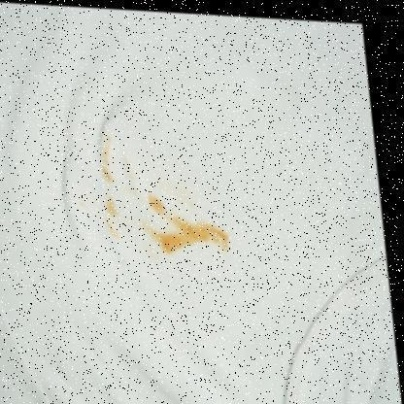kimchi: (152, 218, 234, 252), (95, 131, 115, 184), (103, 189, 119, 242), (139, 195, 165, 219)
